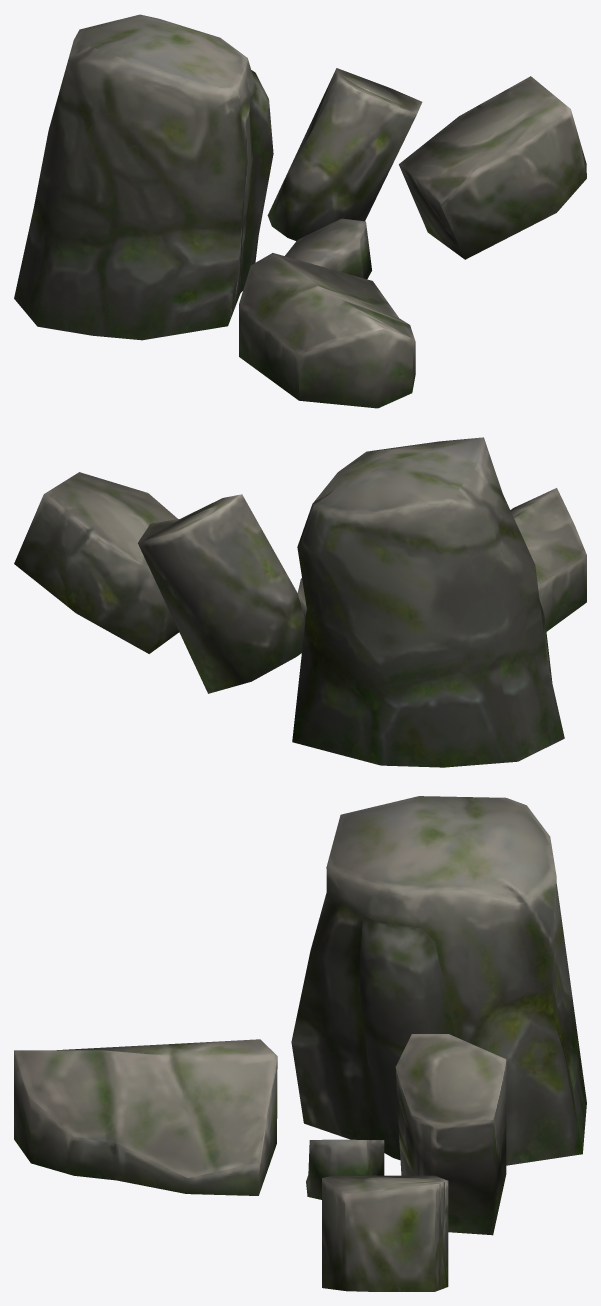
The model's file is Stage_CaoYuan_HeShi03.FBX.
3 renders of one model, top to bottom at view 1: azimuth 30°, elevation 25°; view 2: azimuth 150°, elevation 25°; view 3: azimuth 270°, elevation 25°, orthographic. The views are drawn at different scales.
Parts seen in each view (by area): view 1: Stage_CaoYuan_HeShi03; view 2: Stage_CaoYuan_HeShi03; view 3: Stage_CaoYuan_HeShi03.
Part boxes in pixels (x1,y1,x2,y2): Stage_CaoYuan_HeShi03: (14,14,586,408); Stage_CaoYuan_HeShi03: (14,437,586,767); Stage_CaoYuan_HeShi03: (14,796,586,1291).
Bounding box in the file's own units: 698 × 326 × 550.
